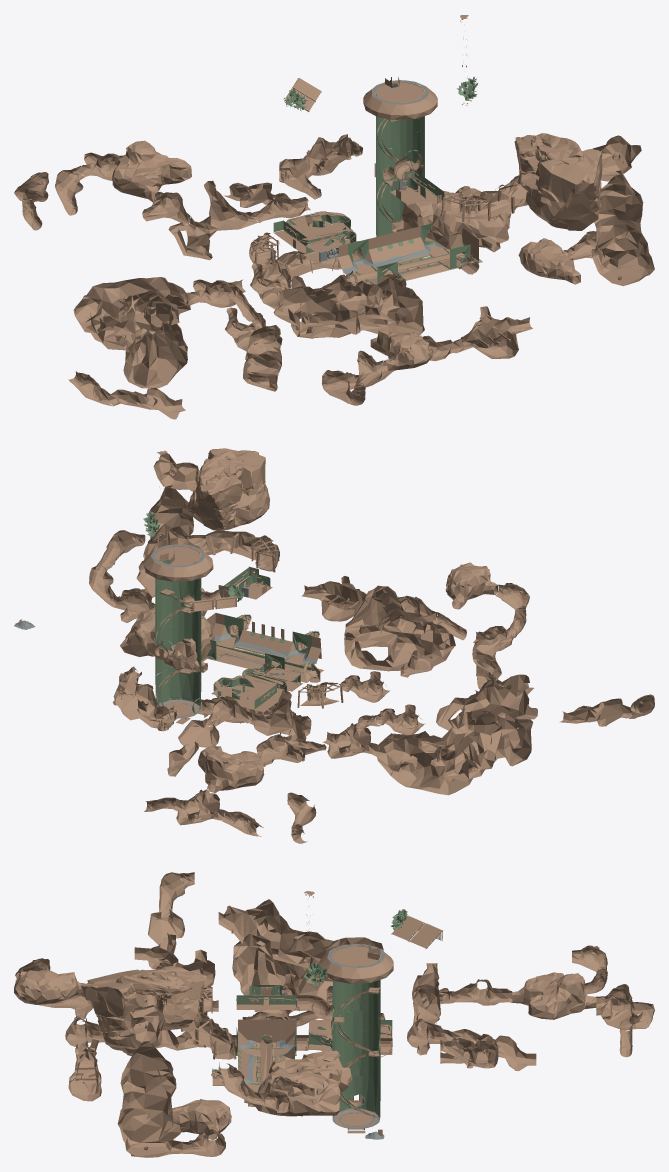
The model's file is cave_large_sewers_hard-mid.glb.
3 renders of one model, top to bottom at view 1: azimuth 30°, elevation 25°; view 2: azimuth 150°, elevation 25°; view 3: azimuth 270°, elevation 25°, orthographic. The views are drawn at different scales.
Visible parts, largest first — view 1: rock_formation_huge_a_LOD0, LOD0, sewer_chimney_top_LOD0; view 2: rock_formation_huge_a_LOD0, LOD0, sewer_chimney_top_LOD0; view 3: rock_formation_huge_a_LOD0, LOD0, sewer_chimney_top_LOD0.
Boxes of the visible parts, box(x1,y1,x2,y2) form: rock_formation_huge_a_LOD0: box(14, 15, 654, 419); LOD0: box(273, 77, 478, 284); sewer_chimney_top_LOD0: box(319, 80, 472, 282); rock_formation_huge_a_LOD0: box(19, 448, 654, 843); LOD0: box(143, 512, 319, 715); sewer_chimney_top_LOD0: box(14, 544, 316, 718); rock_formation_huge_a_LOD0: box(14, 872, 654, 1157); LOD0: box(211, 909, 407, 1116); sewer_chimney_top_LOD0: box(238, 943, 384, 1139).
Size of the model in its own units: 167 by 73.03 by 160.
